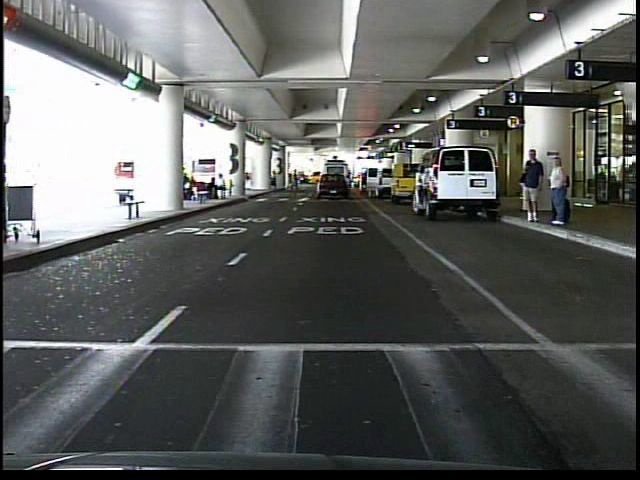person: (516, 146, 545, 227), (546, 153, 569, 228), (269, 167, 280, 192), (345, 170, 353, 193)
